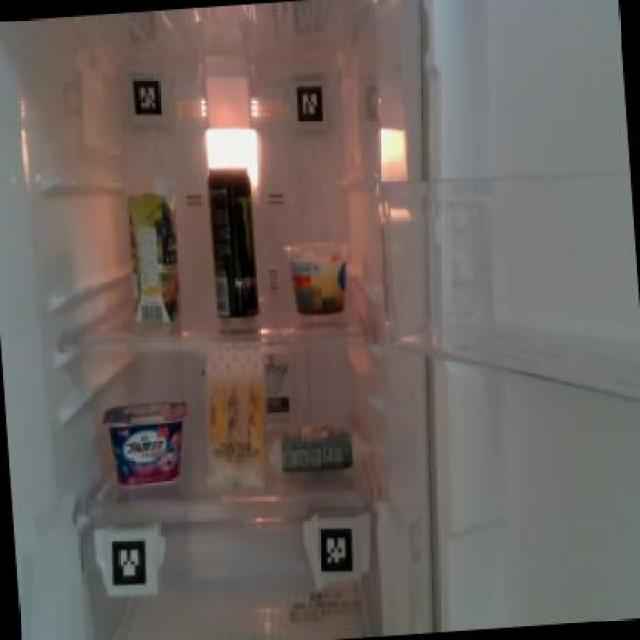energy_drink: (203, 162, 262, 322)
pudding: (281, 235, 353, 318)
rice_ball: (272, 420, 366, 477)
sandwich: (198, 344, 273, 494)
smoothie: (123, 177, 183, 326)
yogurt: (98, 395, 193, 490)
